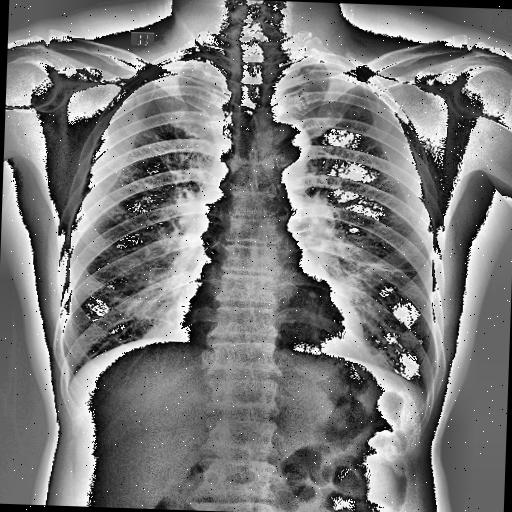0- Aortic enlargement: (254, 120, 312, 169), (258, 122, 310, 162)
11- Pleural thickening: (158, 54, 204, 72), (163, 54, 216, 69), (304, 58, 348, 72)
13- Pulmonary fibrosis: (357, 257, 425, 276), (366, 256, 422, 277), (362, 261, 426, 277), (370, 352, 382, 360)
3- Cardiomegaly: (172, 302, 369, 363)
